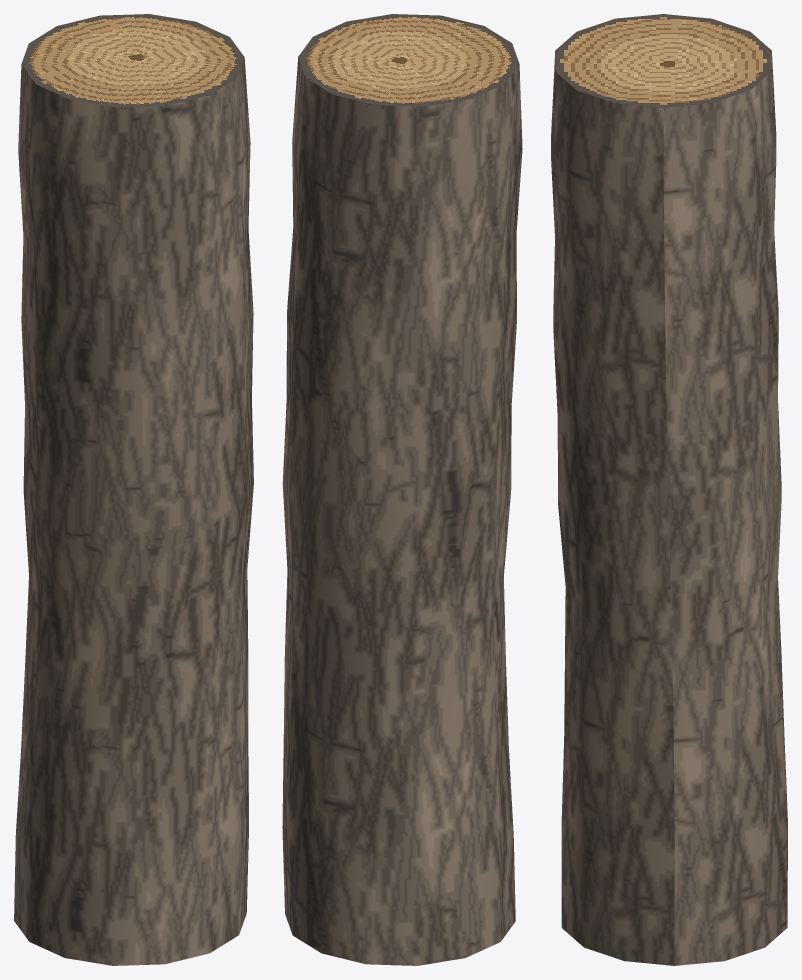
File: environment_elm_loghalf_v76.fbx
3 views of the same model, side by side, from view 1: azimuth 30°, elevation 25°; view 2: azimuth 150°, elevation 25°; view 3: azimuth 270°, elevation 25° (orthographic).
Parts seen in each view (by area): view 1: environment_elm_loghalf_v76; view 2: environment_elm_loghalf_v76; view 3: environment_elm_loghalf_v76.
Boxes of the visible parts, left/top/right/bottom form: environment_elm_loghalf_v76: left=14, top=14, right=253, bottom=965; environment_elm_loghalf_v76: left=282, top=14, right=522, bottom=965; environment_elm_loghalf_v76: left=551, top=14, right=787, bottom=965.
Bounding box in the file's own units: 127 × 500 × 126.
Materials: 2 (2 with a texture image).
